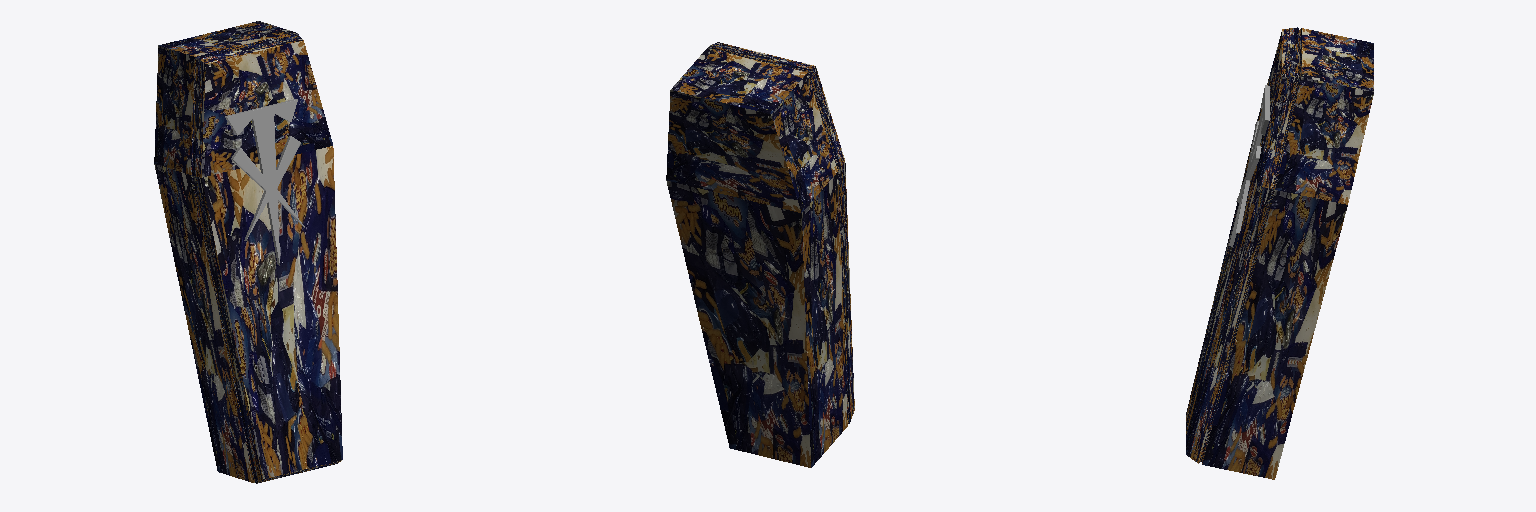
The picture shows the model from 3 angles: view 1: azimuth 30°, elevation 25°; view 2: azimuth 150°, elevation 25°; view 3: azimuth 270°, elevation 25°; orthographic projection.
Visible parts, largest first — view 1: coffin_Cube.002_Material.003, symbol_Cube.001; view 2: coffin_Cube.002_Material.003; view 3: coffin_Cube.002_Material.003, symbol_Cube.001.
Boxes of the visible parts, x1=… form: coffin_Cube.002_Material.003: x1=154, y1=21, x2=342, y2=483; symbol_Cube.001: x1=225, y1=99, x2=304, y2=265; coffin_Cube.002_Material.003: x1=666, y1=42, x2=854, y2=467; coffin_Cube.002_Material.003: x1=1186, y1=27, x2=1373, y2=479; symbol_Cube.001: x1=1229, y1=85, x2=1269, y2=246.
Size of the model in its own units: 2.69 by 7.75 by 3.25.
2 materials, 1 textured.